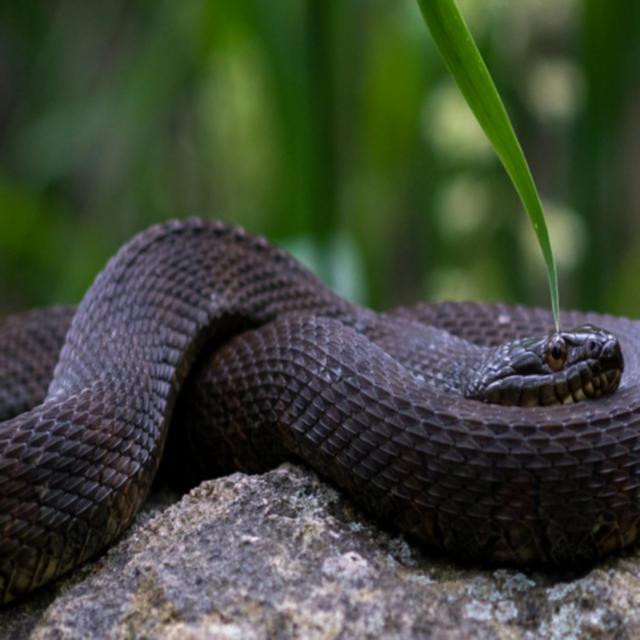Snake: (0, 212, 640, 640)
